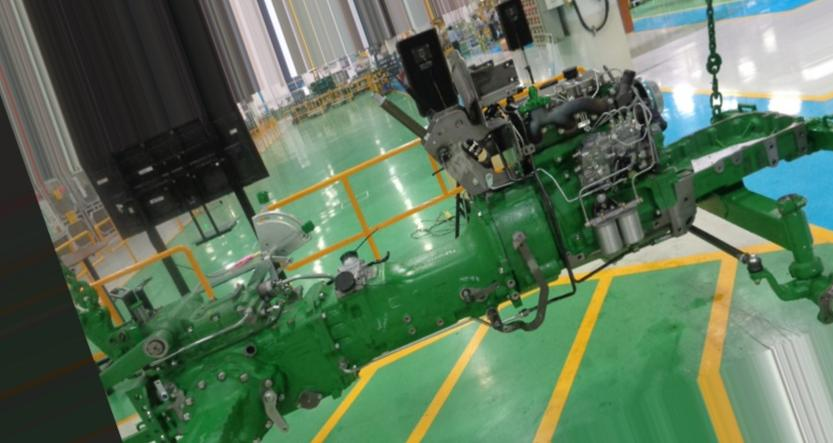engine: (80, 48, 833, 437)
